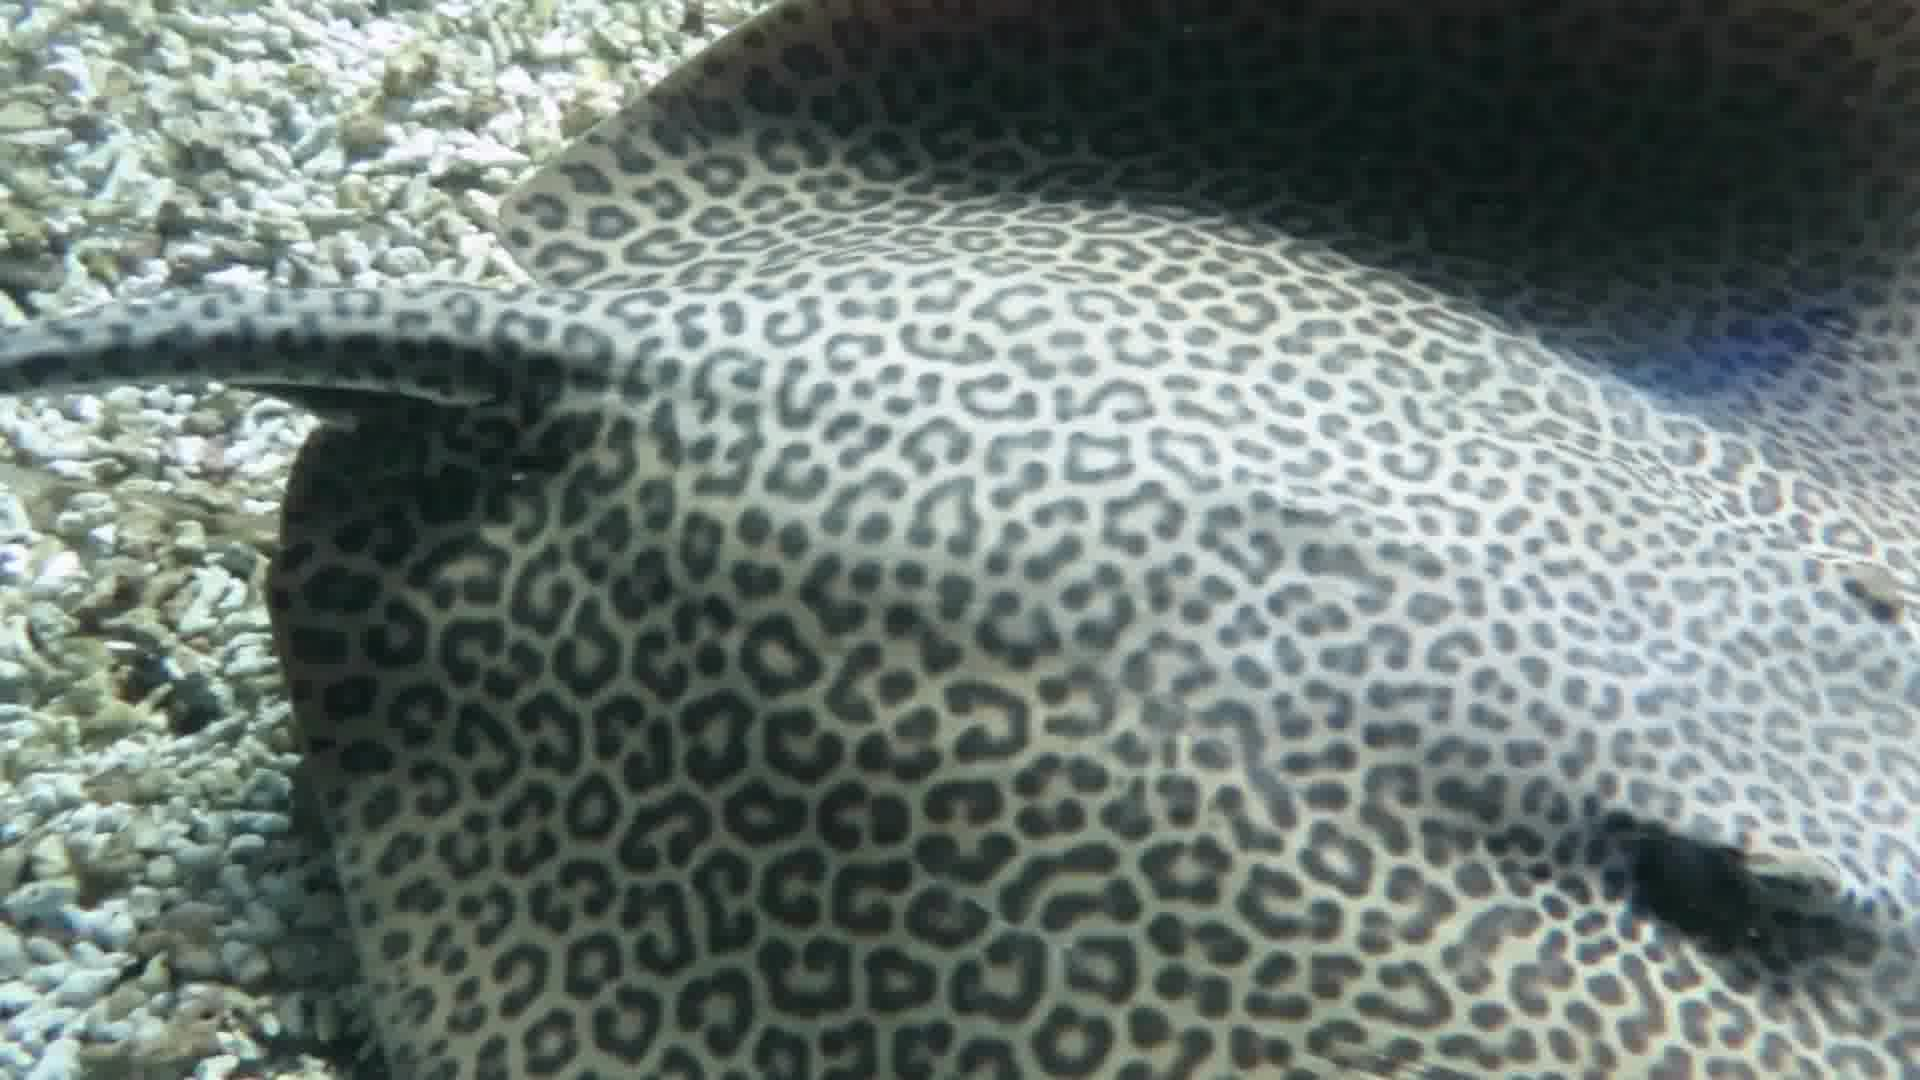Himantura uarnak: (233, 1, 1920, 1080)
